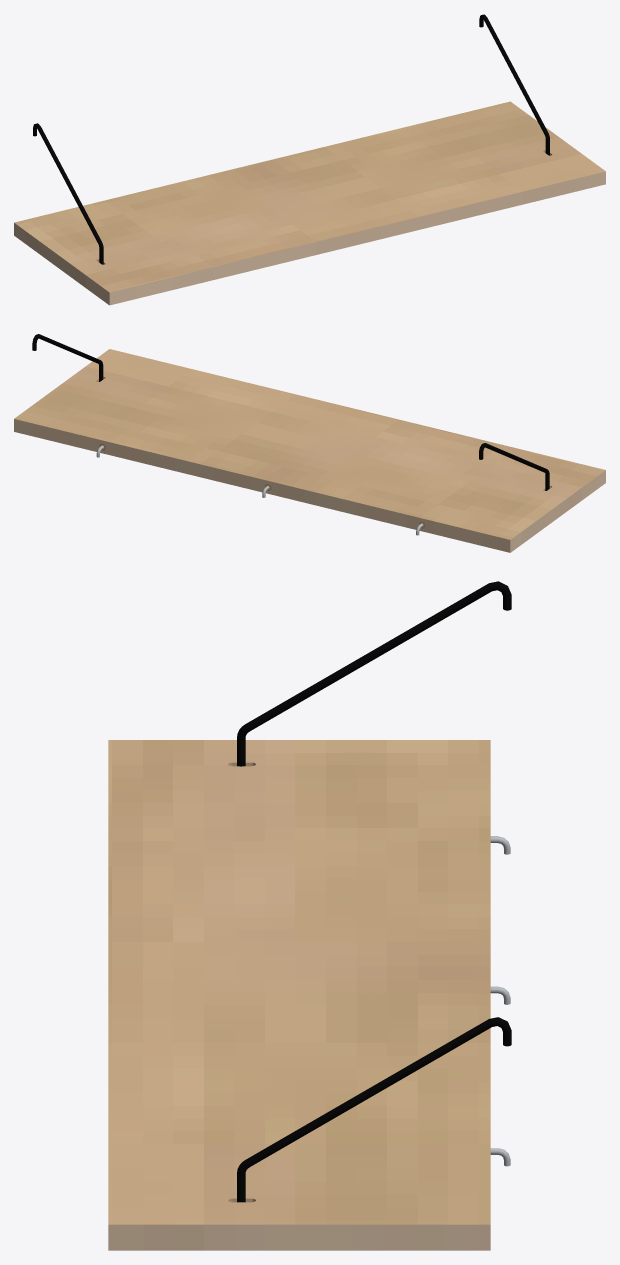
File: board60x20.glb
The picture shows the model from 3 angles, top to bottom: view 1: azimuth 30°, elevation 25°; view 2: azimuth 150°, elevation 25°; view 3: azimuth 270°, elevation 25°; orthographic projection. The views are drawn at different scales.
Parts seen in each view (by area): view 1: Geom3D (×4); view 2: Geom3D (×4); view 3: Geom3D (×4).
Part boxes in pixels (x1,y1,x2,y2): Geom3D (×4): [14, 14, 605, 305]; Geom3D (×4): [14, 334, 605, 552]; Geom3D (×4): [108, 581, 511, 1250].
Size of the model in its own units: 0.6 by 0.1211 by 0.2111.
Materials: 4 (3 with a texture image).
